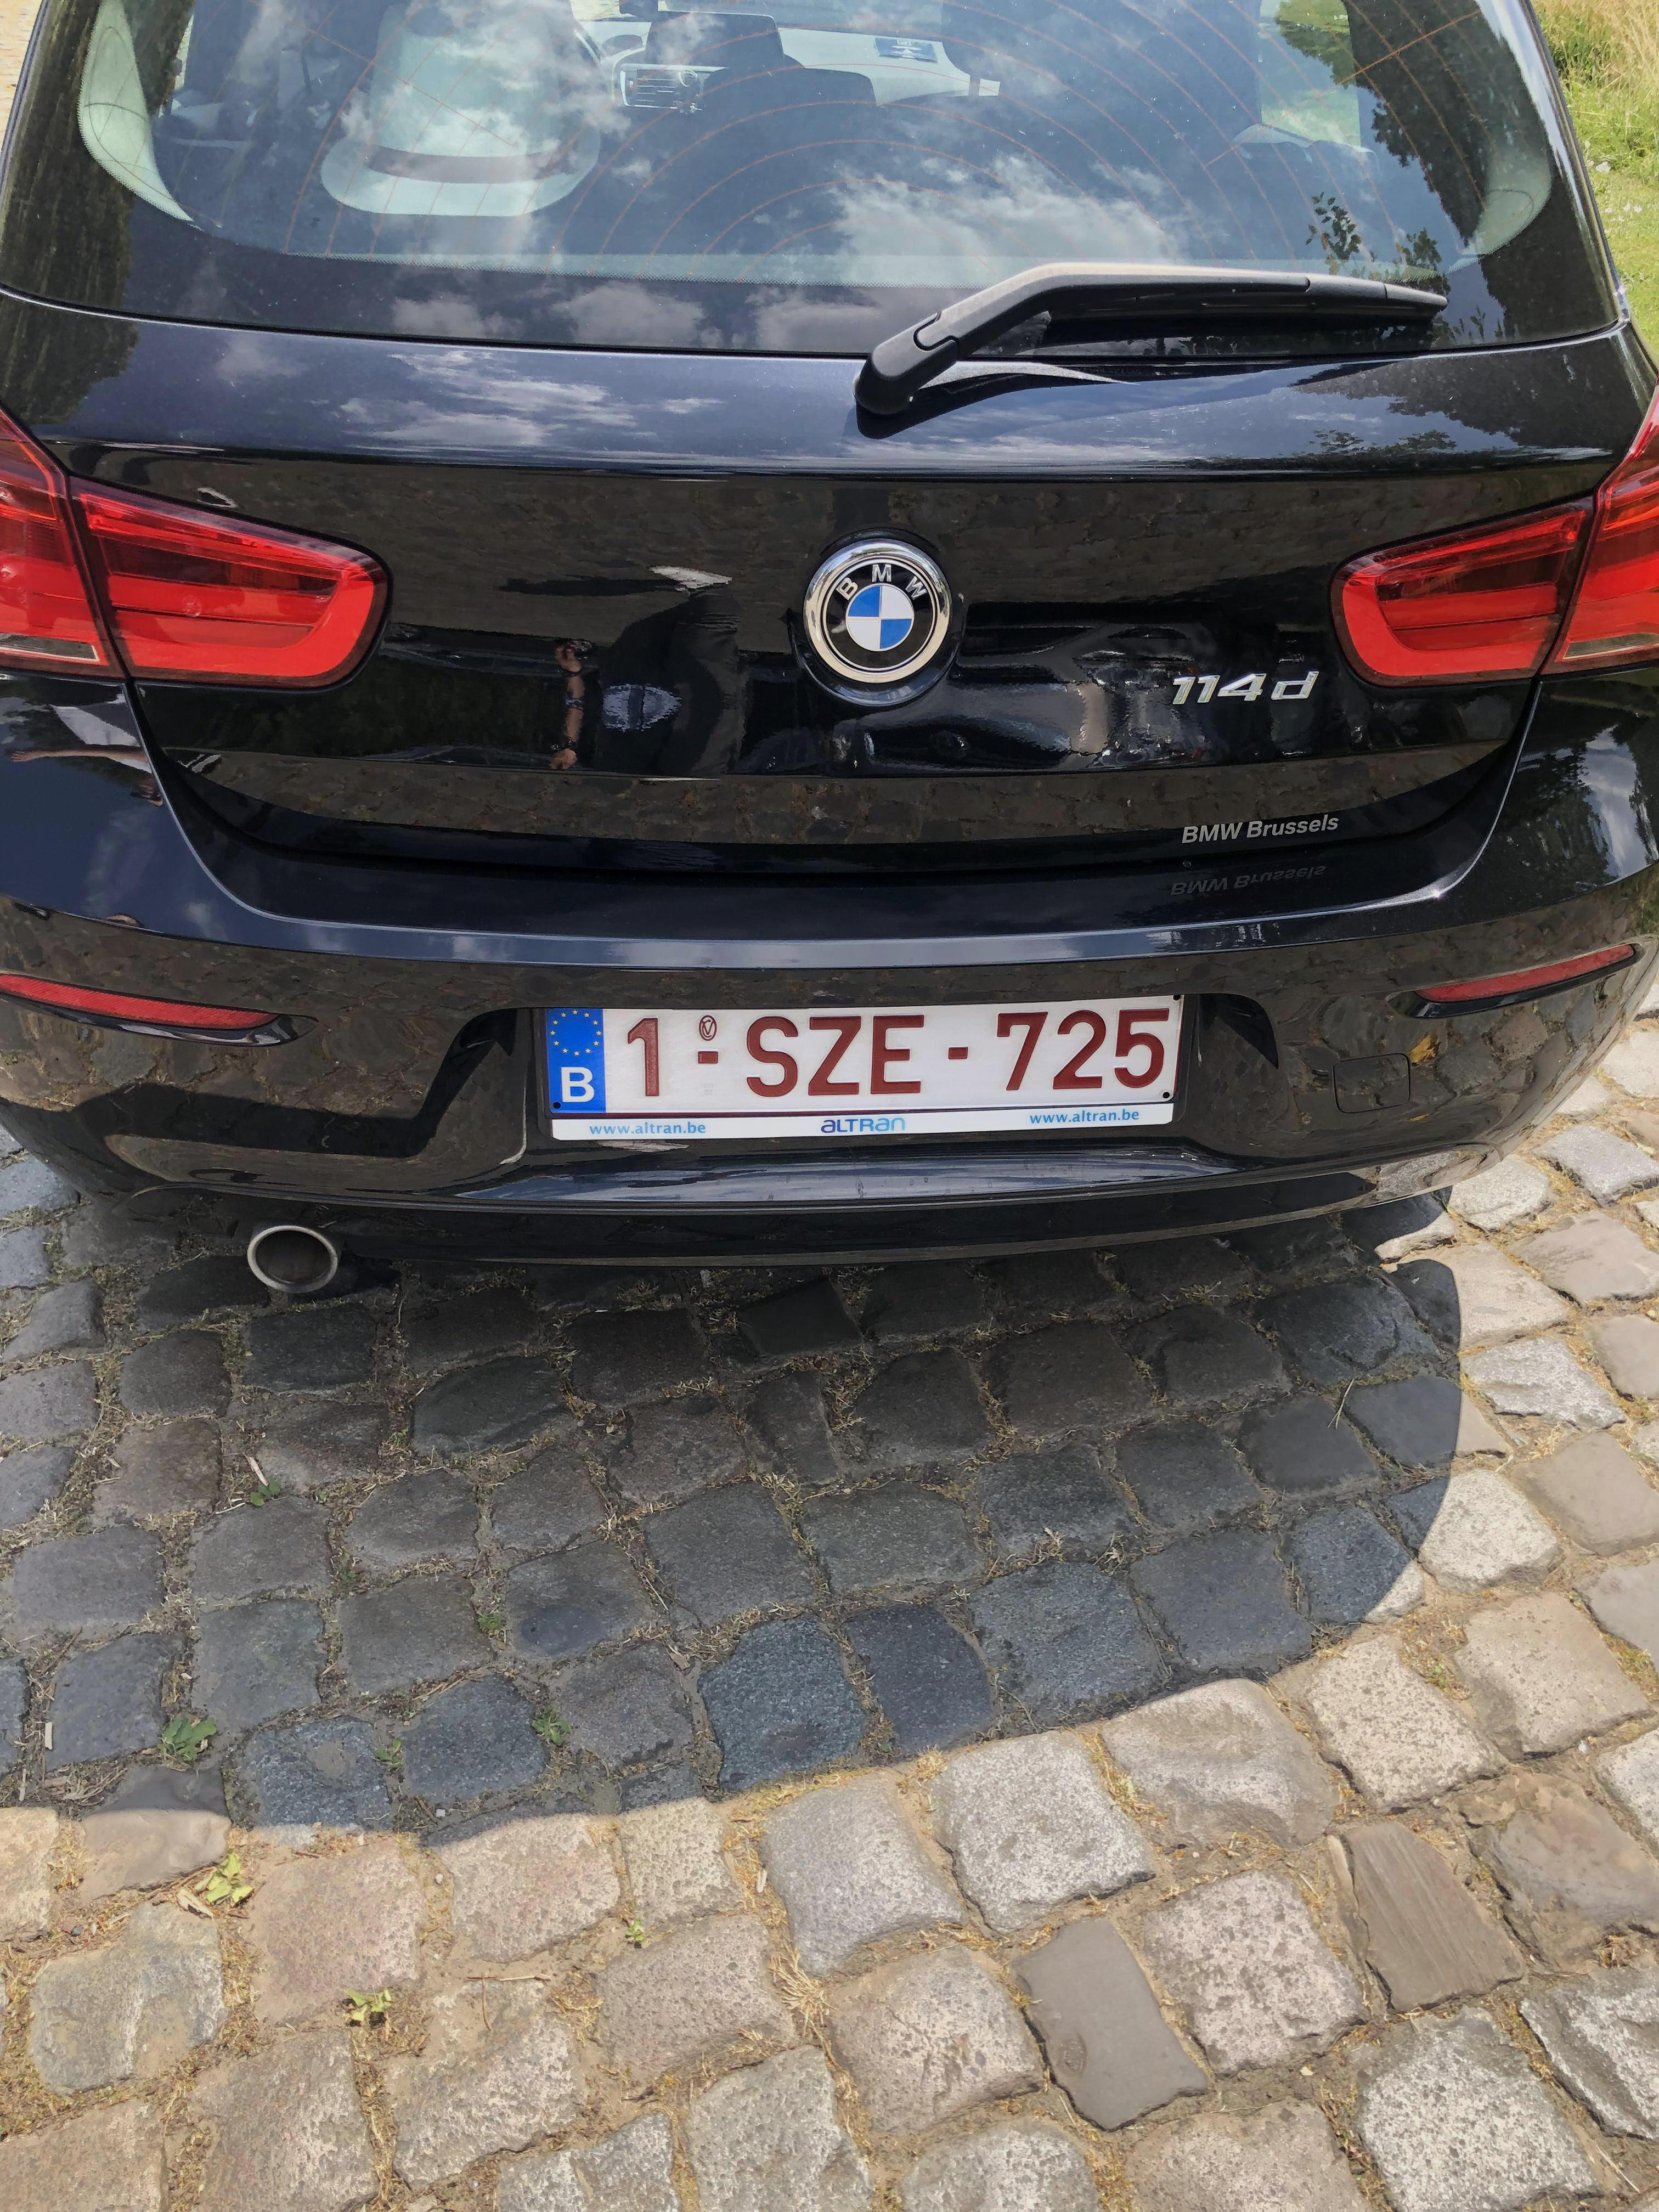plate: (501, 963, 1210, 1157)
